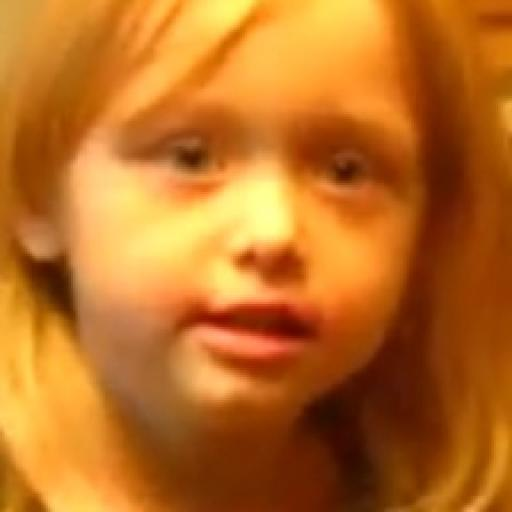Autism: (58, 21, 419, 480)
